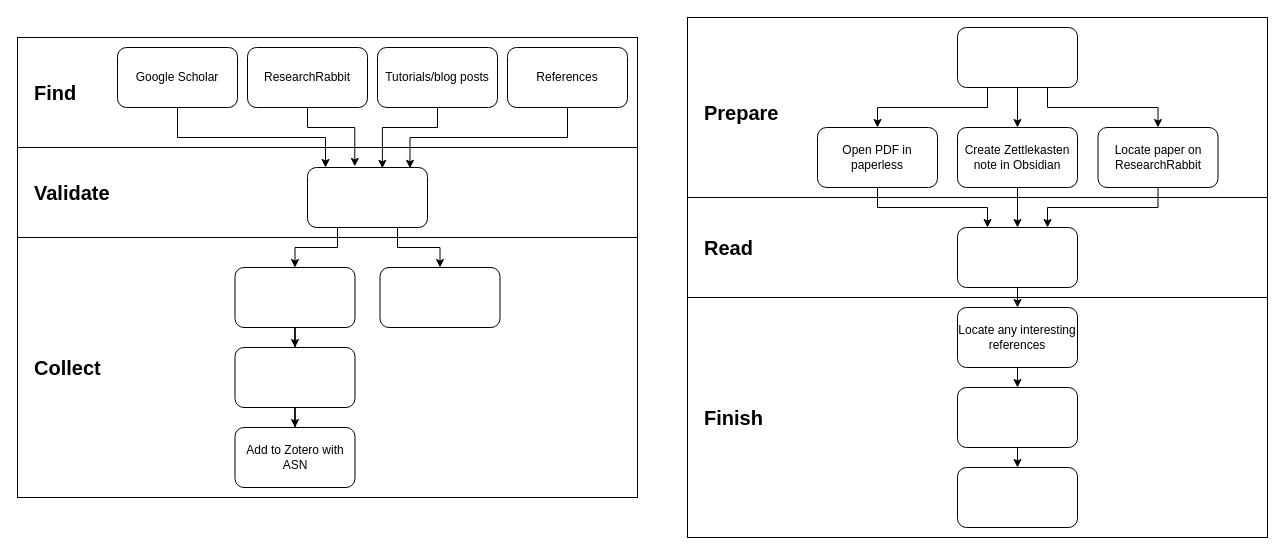
Some shapes in this 1285 by 555 pixel diagram are drawn without their labels. Each missing label, with the centre of its shape:
"Add to-do card to zube.io kanban board" belongs at point 439,297.
"Download the PDF" belongs at point 294,297.
"Mark as done on zube.io and paperless" belongs at point 1017,497.
"Read abstract and/or conclusion" belongs at point 367,197.
"Read whilst taking rough notes" belongs at point 1017,257.
"Select which paper to start on via zube.io" belongs at point 1017,57.
"Upload to paperless" belongs at point 294,377.
"Write up short summary and flesh out any other ideas/notes" belongs at point 1017,417.
